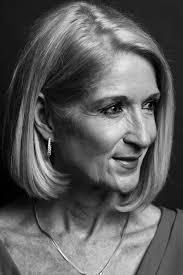Wrinkles: (83, 107, 98, 116), (127, 117, 137, 126), (83, 114, 90, 117)
